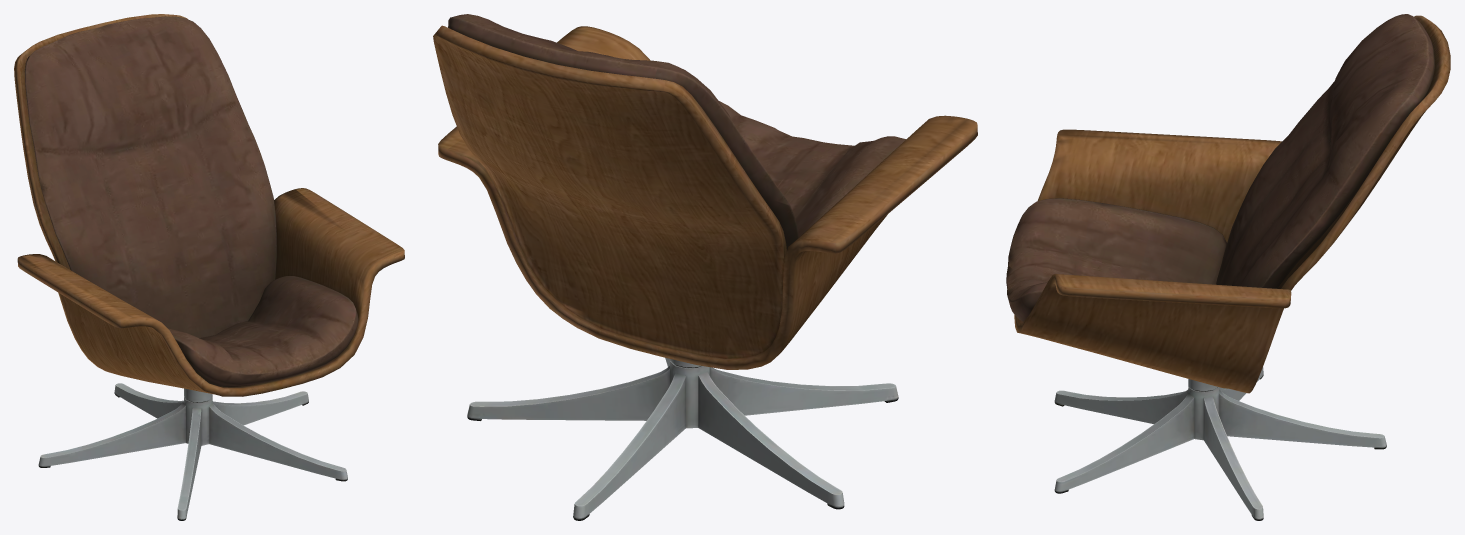
File: mid_century_lounge_chair.glb
3 views of the same model, side by side, from view 1: azimuth 30°, elevation 25°; view 2: azimuth 150°, elevation 25°; view 3: azimuth 270°, elevation 25° (orthographic). The views are drawn at different scales.
Parts seen in each view (by area): view 1: mid_century_lounge_chair; view 2: mid_century_lounge_chair; view 3: mid_century_lounge_chair.
Boxes of the visible parts, x1=… form: mid_century_lounge_chair: x1=14, y1=14, x2=404, y2=520; mid_century_lounge_chair: x1=433, y1=14, x2=977, y2=520; mid_century_lounge_chair: x1=1006, y1=14, x2=1450, y2=520.
Bounding box in the file's own units: 1.01 × 1.17 × 1.19.
Materials: 1 (1 with a texture image).
